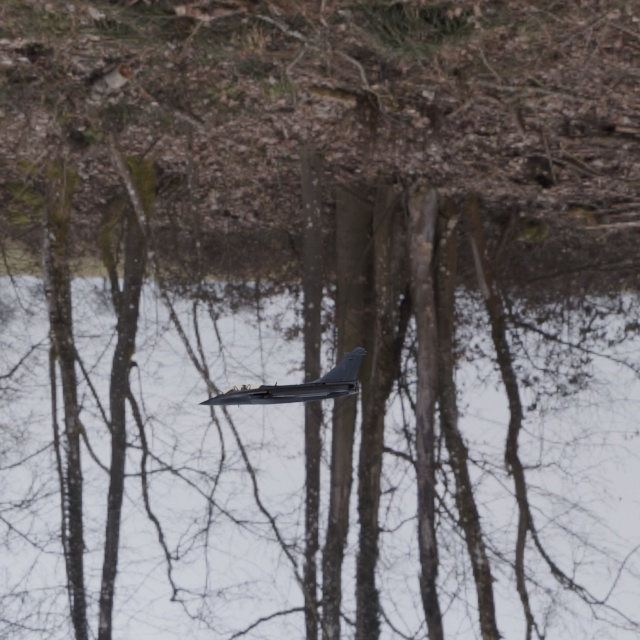dassault_rafale: (174, 346, 381, 411)
